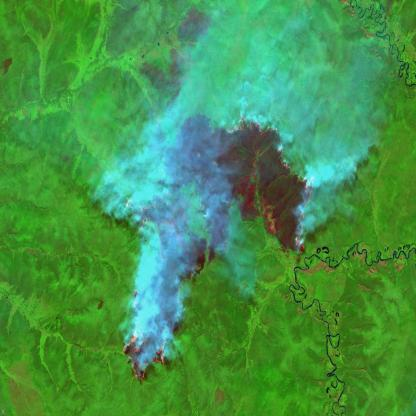fire: (222, 112, 315, 258), (108, 192, 168, 387)
